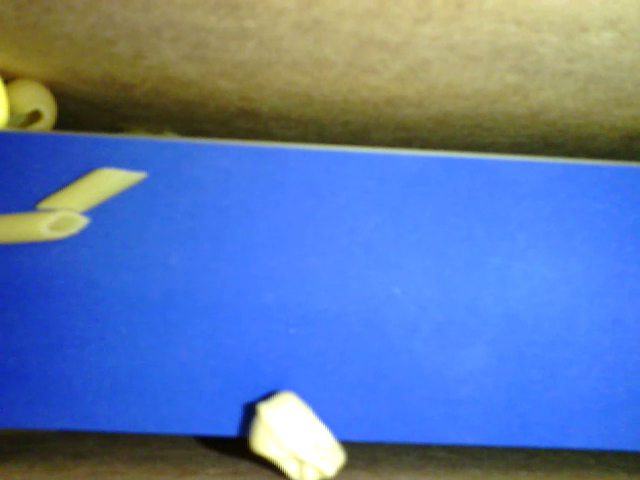penne: (34, 168, 149, 212), (1, 209, 93, 246)
shell: (3, 74, 62, 132)
